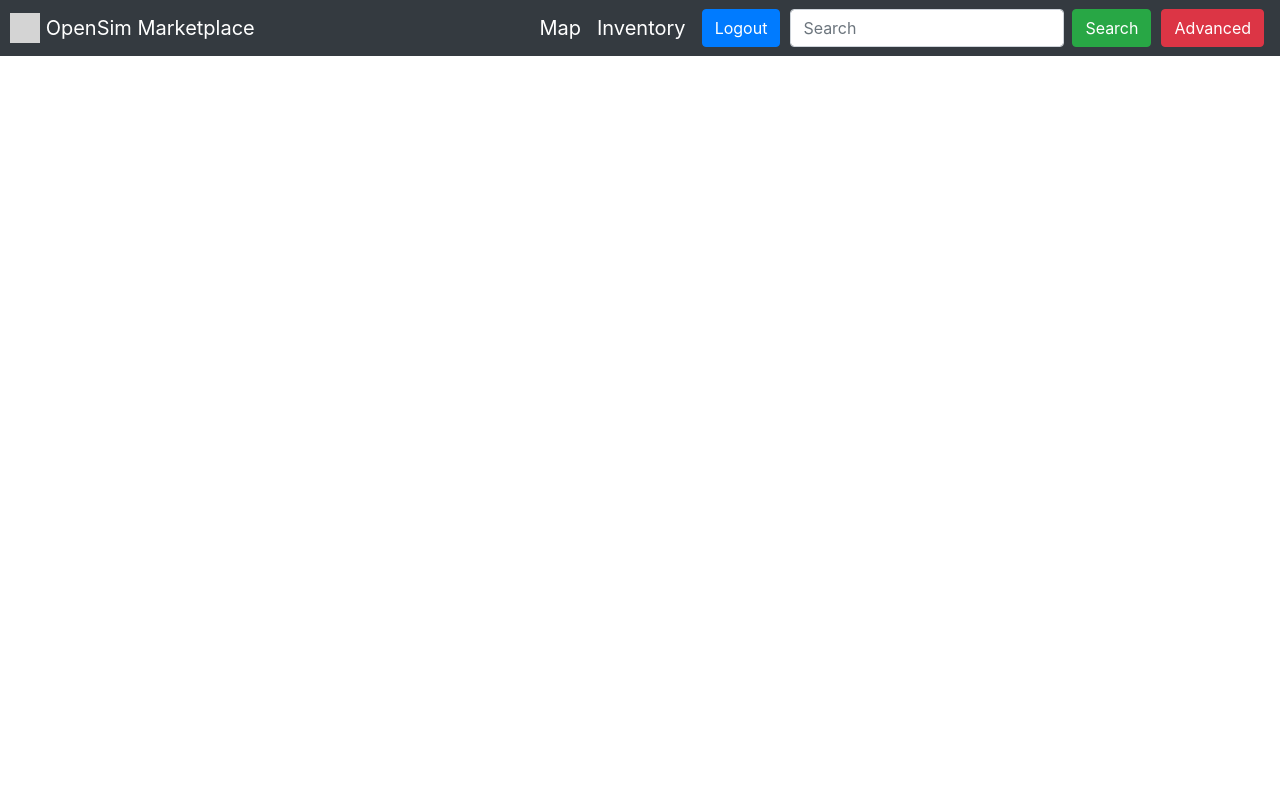
Test: Navigation Bar › Render NavigationBar Advanced Search
Click the button "Advanced" at (1213, 28), box [1162,9,1264,47]
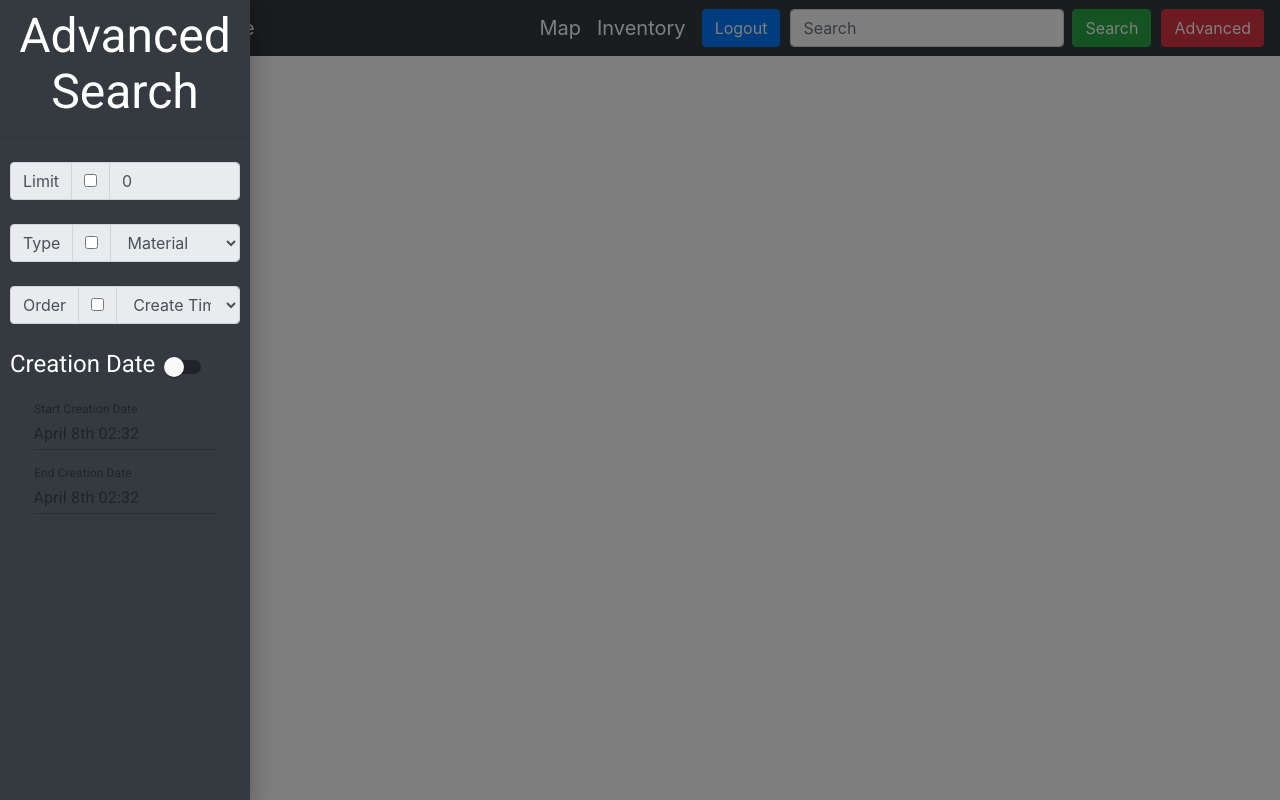
Now the text "Limit" is shown, box [10,162,72,200]
